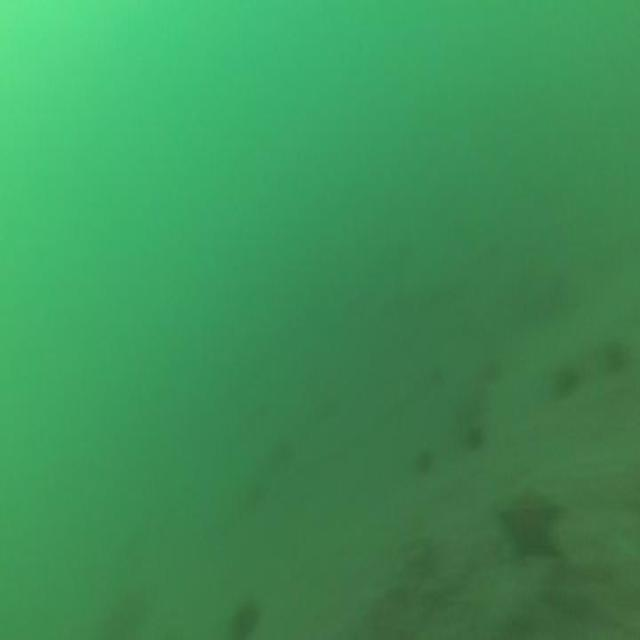echinus: (549, 357, 583, 403), (227, 596, 260, 640), (601, 332, 629, 378), (410, 440, 434, 480), (462, 421, 484, 458)
starfish: (495, 482, 570, 570)
